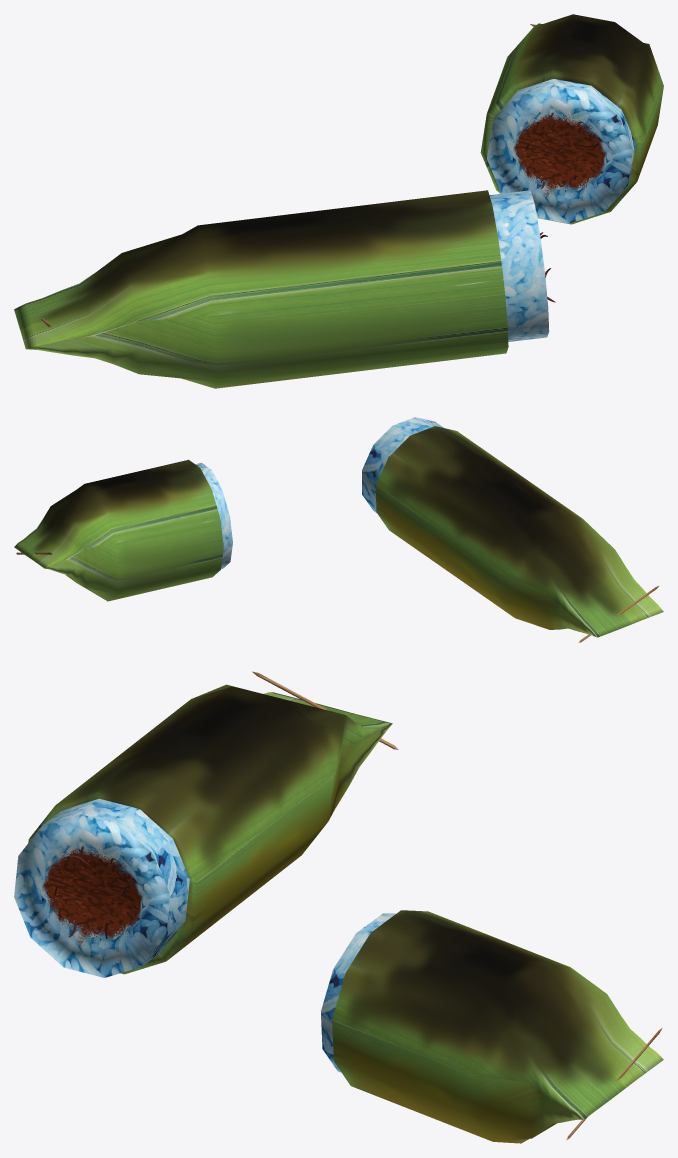
The model's file is Separated_Rolls.fbx.
The picture shows the model from 3 angles, top to bottom: view 1: azimuth 30°, elevation 25°; view 2: azimuth 150°, elevation 25°; view 3: azimuth 270°, elevation 25°; orthographic projection. The views are drawn at different scales.
Parts seen in each view (by area): view 1: polySurface1063, polySurface1058, polySurface1061, polySurface1059; view 2: polySurface1063, polySurface1061, polySurface1059, polySurface1058; view 3: polySurface1061, polySurface1063, polySurface1059, polySurface1058.
Boxes of the visible parts, x1,y1,x2,y2 form: polySurface1063: (14, 190, 508, 388); polySurface1058: (487, 79, 635, 223); polySurface1061: (480, 14, 663, 224); polySurface1059: (489, 190, 549, 341); polySurface1063: (376, 426, 663, 637); polySurface1061: (14, 459, 223, 601); polySurface1059: (362, 417, 443, 512); polySurface1058: (195, 462, 232, 568); polySurface1061: (332, 910, 663, 1143); polySurface1063: (28, 684, 392, 974); polySurface1059: (14, 798, 189, 977); polySurface1058: (321, 913, 395, 1072).
Bounding box in the file's own units: 22.35 × 4.7 × 14.21.
2 materials, 1 textured.
